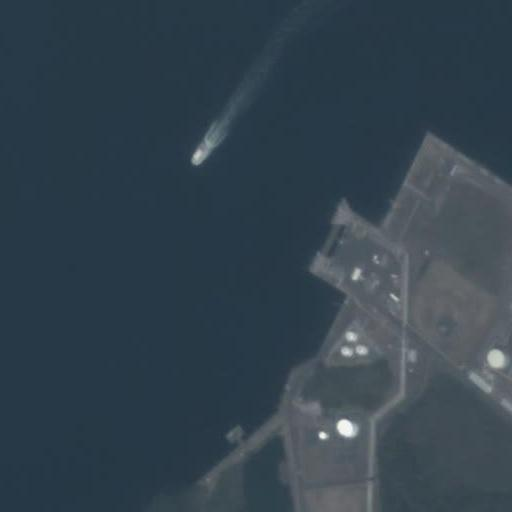person: (191, 148, 206, 165)
